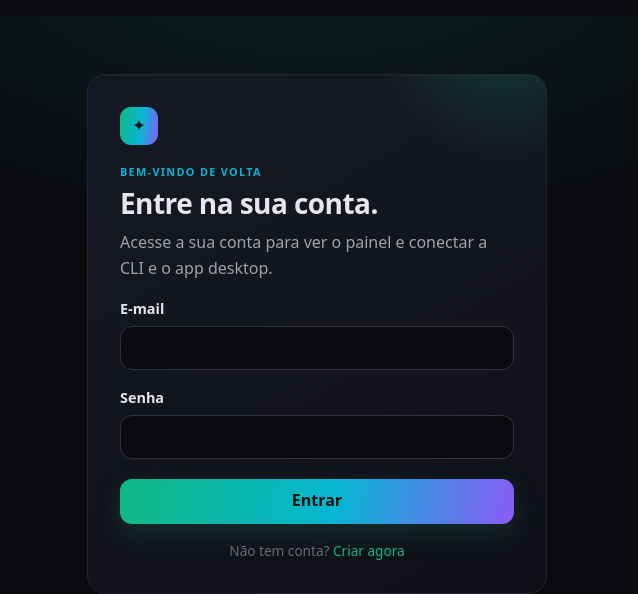
Entrar — fluxo crítico (W6) › mostra aviso de erro quando a API recusa
(page scrolled)
In the field labelled "E-mail": (317, 348) top-left (120, 326), bottom-right (514, 370), type "a@b.com"
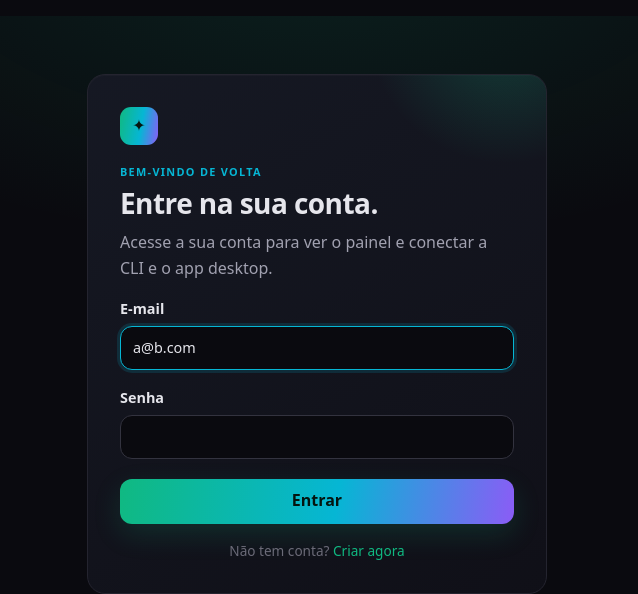
In the password field labelled "Senha": (317, 437) top-left (120, 415), bottom-right (514, 459), type "errada"
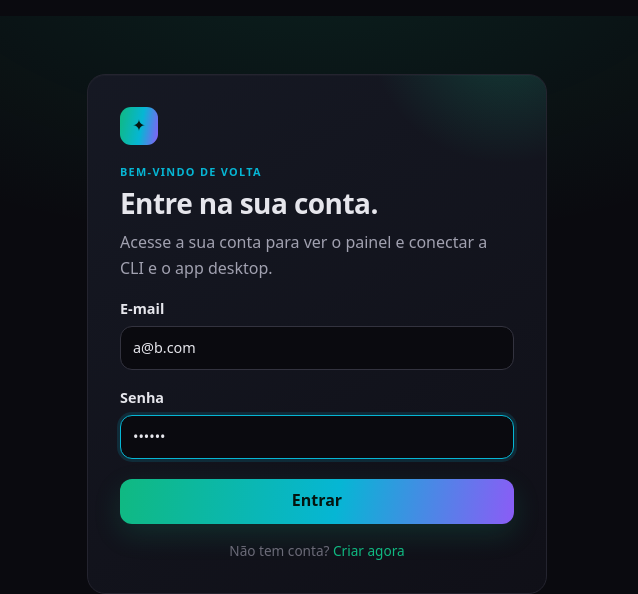
Click the button "Entrar": (317, 501) top-left (120, 479), bottom-right (514, 524)
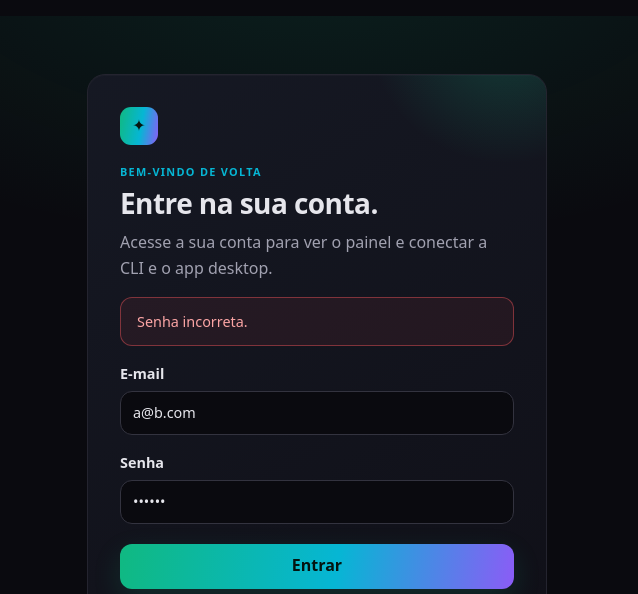
Expected: the text "Senha incorreta." is shown, top-left (137, 312), bottom-right (248, 331)
